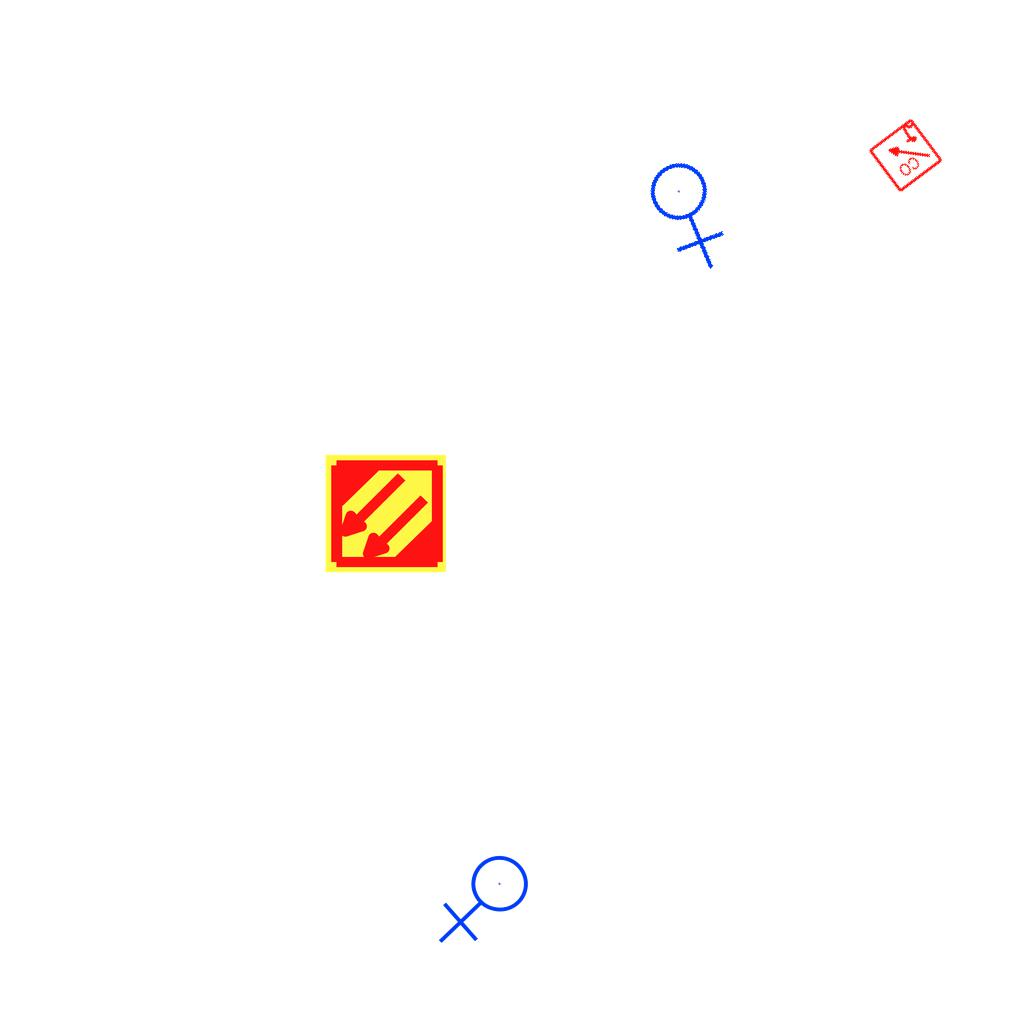ASR_Ansaugrauchmelder: (323, 451, 448, 576)
Elektroanschluss_allgemein_230V_Geraeteanschlussdose_230V: (628, 145, 753, 273), (438, 854, 537, 948)
ROA_Rauchmelder_optisch_mit_Signalgeber_(Sockelsirene): (865, 115, 945, 195)
